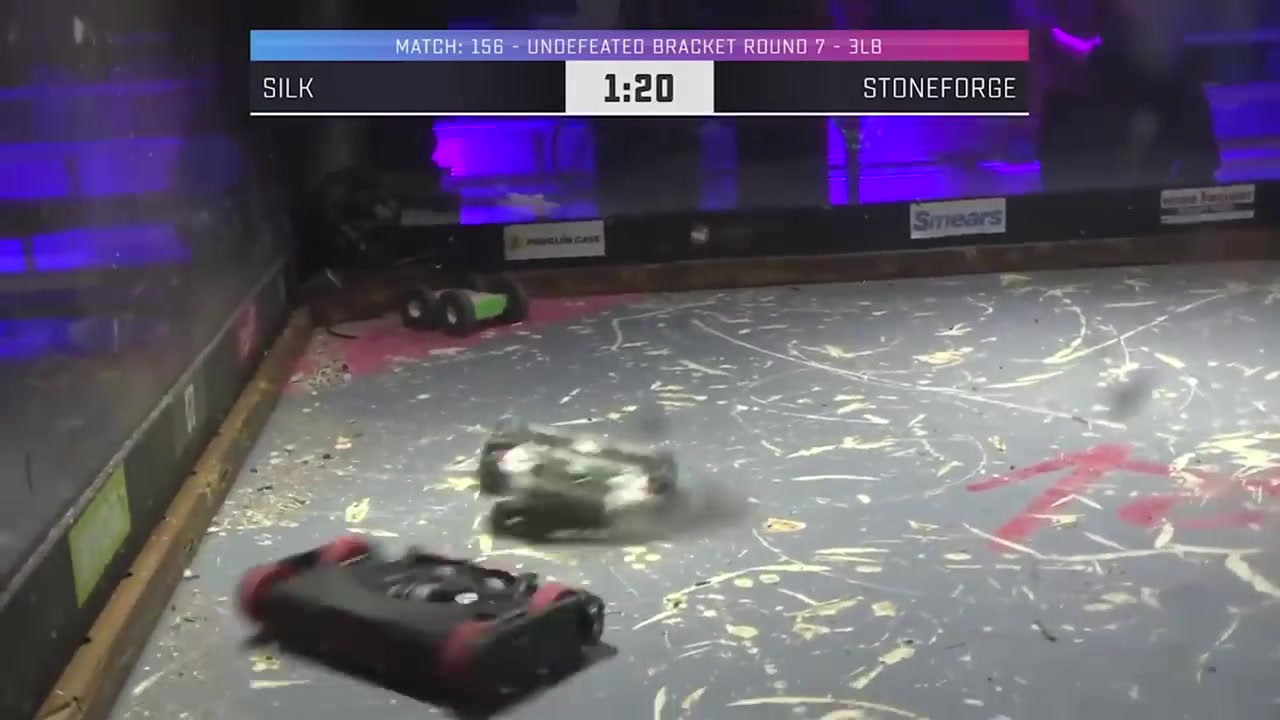belt: (320, 316, 359, 343)
combatbot: (238, 532, 606, 720), (478, 416, 680, 542), (400, 275, 532, 340)
